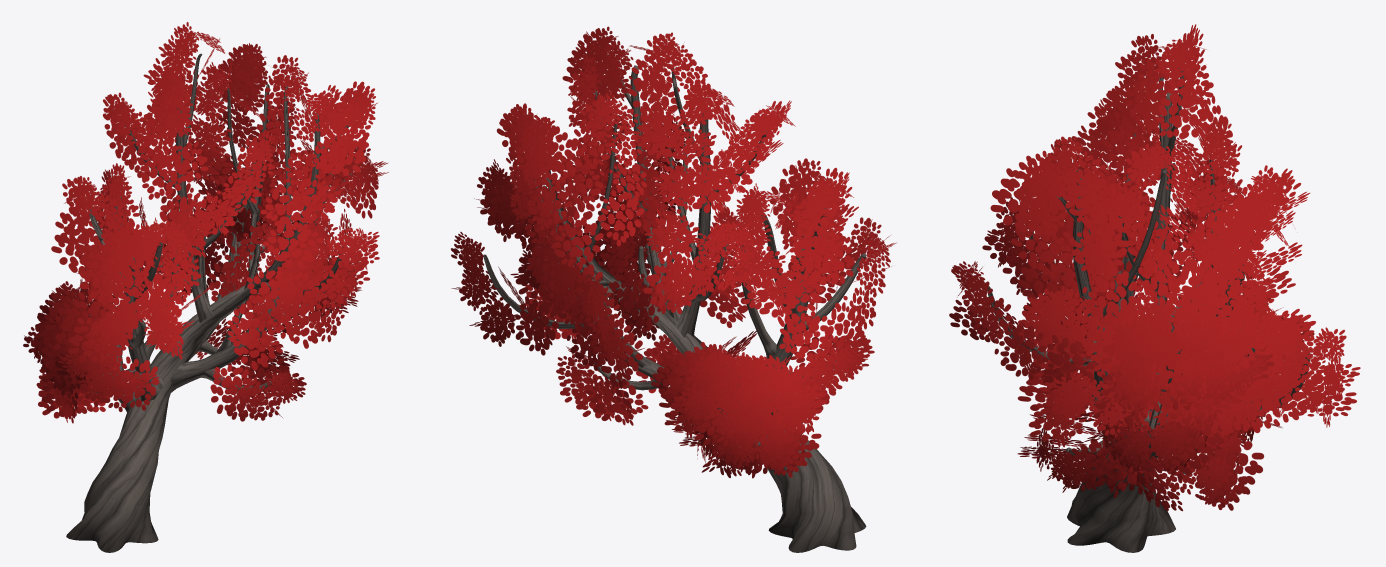
The model's file is twisted1.glb.
3 views of the same model, side by side, from view 1: azimuth 30°, elevation 25°; view 2: azimuth 150°, elevation 25°; view 3: azimuth 270°, elevation 25° (orthographic). The views are drawn at different scales.
Visible parts, largest first — view 1: TwistedTree_1; view 2: TwistedTree_1; view 3: TwistedTree_1.
Part boxes in pixels (x1,y1,x2,y2): TwistedTree_1: (23, 22, 388, 552); TwistedTree_1: (451, 26, 896, 552); TwistedTree_1: (949, 24, 1360, 552).
Size of the model in its own units: 13.52 by 16.73 by 11.55.
Materials: 2 (2 with a texture image).
